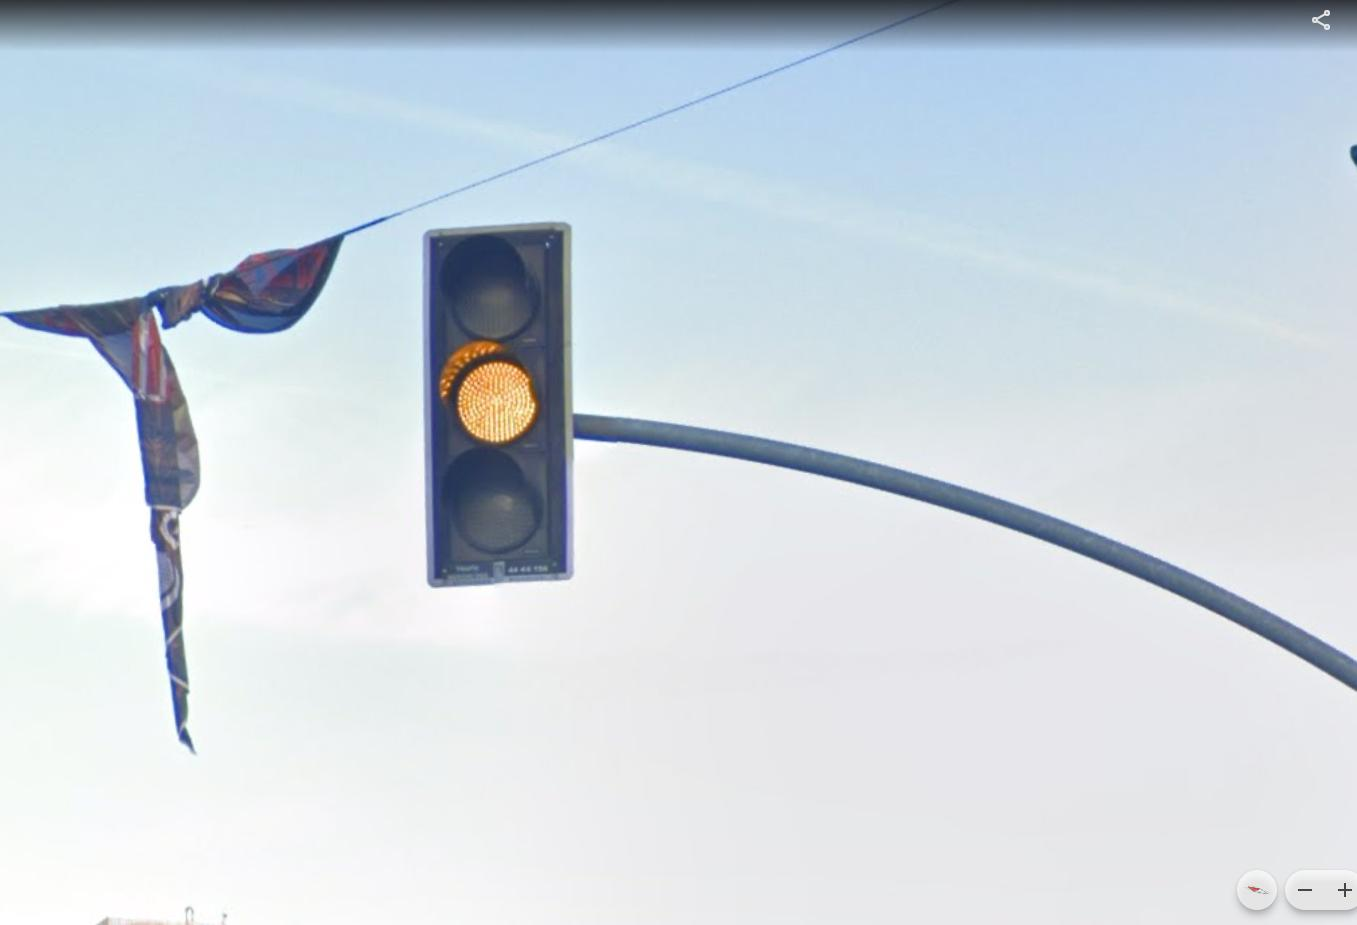yellowlight: (428, 235, 561, 574)
